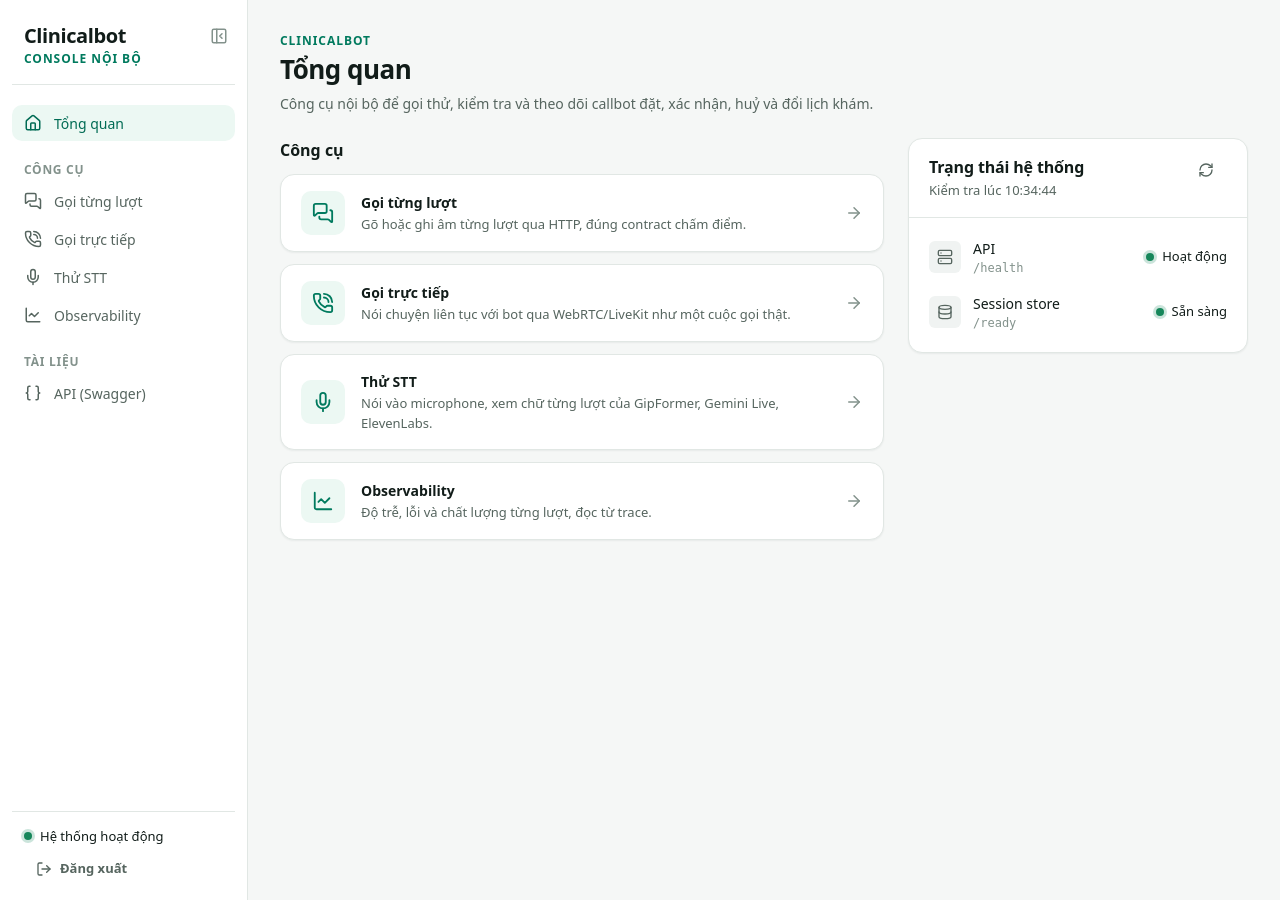
Test: đăng nhập › đăng xuất về trang đăng nhập; key bị bot từ chối thì báo lý do
The width and height of the screenshot is (1280, 900).
Expected: the heading "Tổng quan" is shown, [280,51,411,87]
Click the button "Đăng xuất" at (82, 869), box [24,854,139,884]
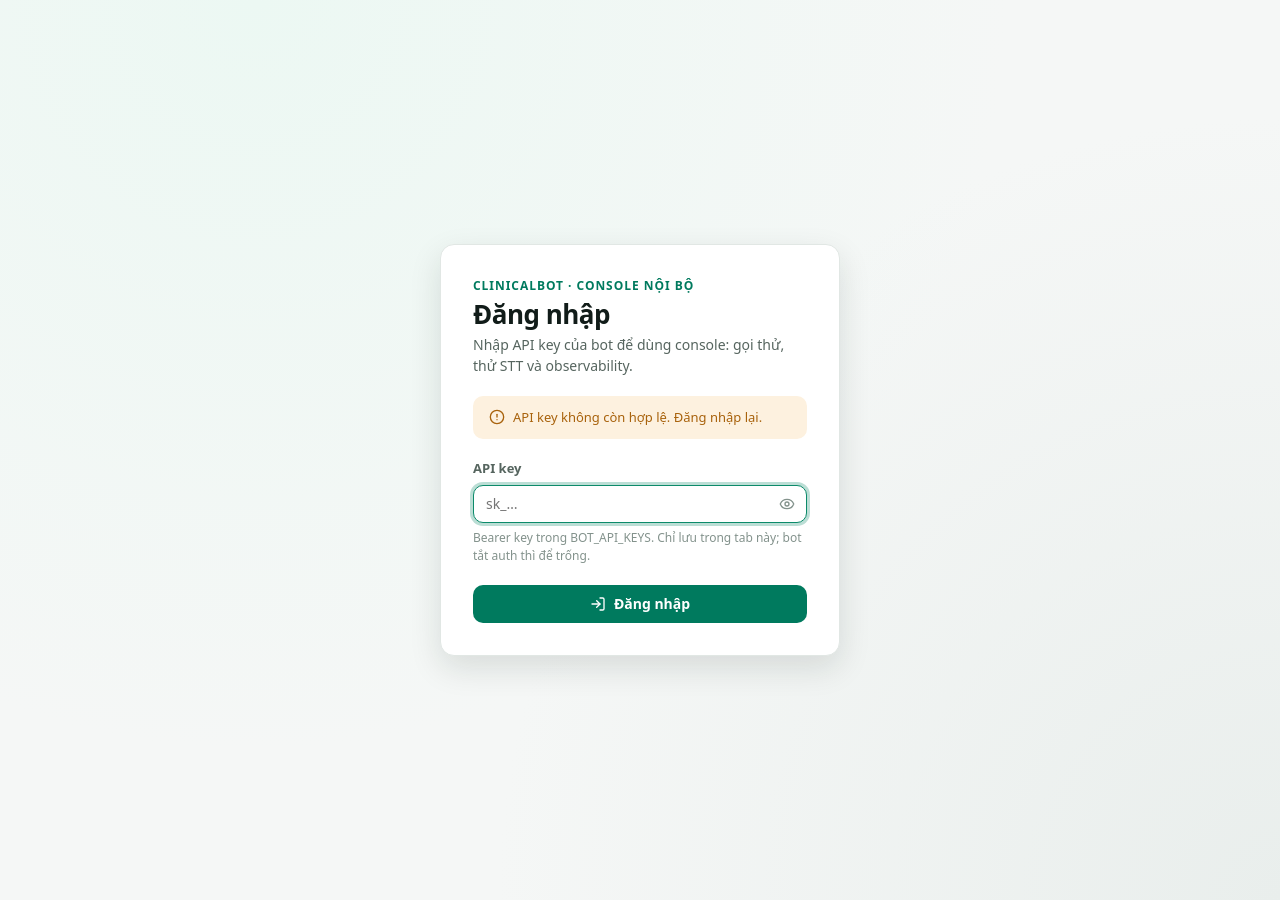
Expected: the heading "Đăng nhập" is shown, [473,296,610,332]
Expected: the text "API key không còn hợp lệ. Đăng nhập lại." is shown, [513,408,762,427]
